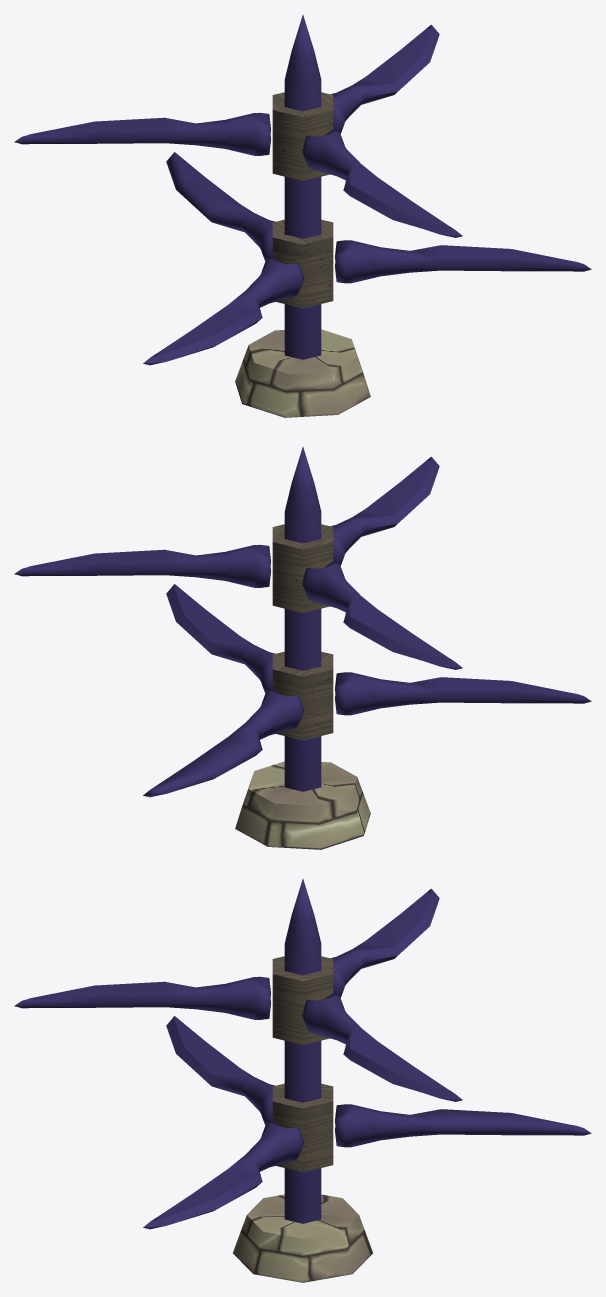
Rendered from Prop_BladeTrap_01.FBX.
The picture shows the model from 3 angles, top to bottom: view 1: azimuth 30°, elevation 25°; view 2: azimuth 150°, elevation 25°; view 3: azimuth 270°, elevation 25°; orthographic projection.
Parts seen in each view (by area): view 1: Prop_BladeTrap_01_Spinner01, Prop_BladeTrap_01_Spinner02, Prop_BladeTrap_01; view 2: Prop_BladeTrap_01_Spinner01, Prop_BladeTrap_01_Spinner02, Prop_BladeTrap_01; view 3: Prop_BladeTrap_01_Spinner01, Prop_BladeTrap_01_Spinner02, Prop_BladeTrap_01.
Boxes of the visible parts, x1,y1,x2,y2 form: Prop_BladeTrap_01_Spinner01: (143, 152, 591, 365); Prop_BladeTrap_01_Spinner02: (14, 24, 462, 237); Prop_BladeTrap_01: (235, 15, 370, 417); Prop_BladeTrap_01_Spinner01: (143, 584, 591, 797); Prop_BladeTrap_01_Spinner02: (14, 456, 462, 669); Prop_BladeTrap_01: (235, 447, 370, 849); Prop_BladeTrap_01_Spinner01: (143, 1016, 591, 1229); Prop_BladeTrap_01_Spinner02: (14, 888, 462, 1101); Prop_BladeTrap_01: (233, 879, 372, 1282).
Bounding box in the file's own units: 3.56 × 2.94 × 4.11.
